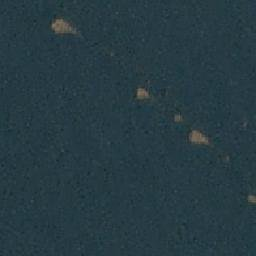debris: (48, 14, 78, 36), (186, 127, 212, 146), (131, 84, 152, 102), (171, 111, 184, 122), (245, 193, 256, 204)
